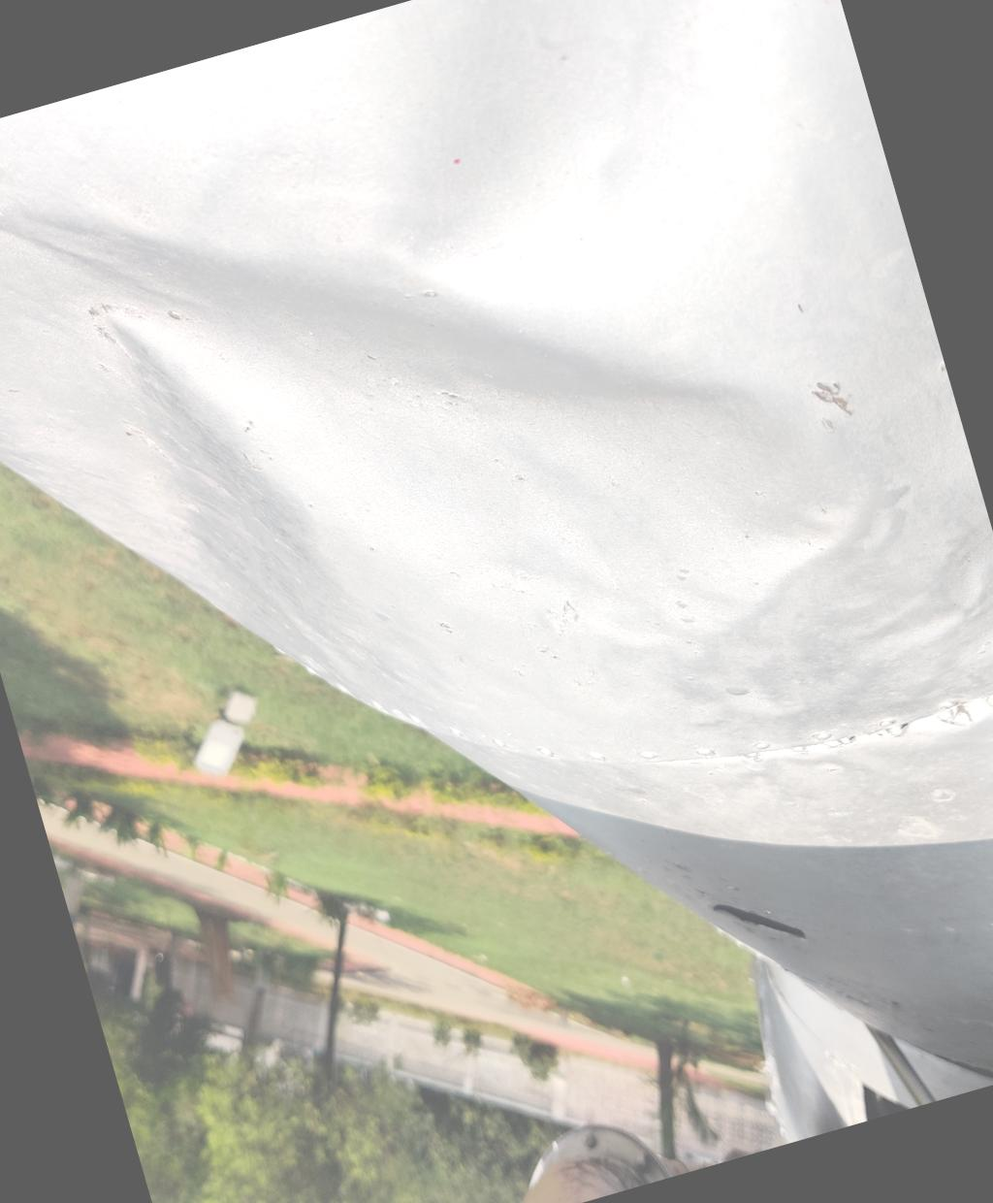dent: (0, 8, 877, 865), (881, 497, 993, 724)
